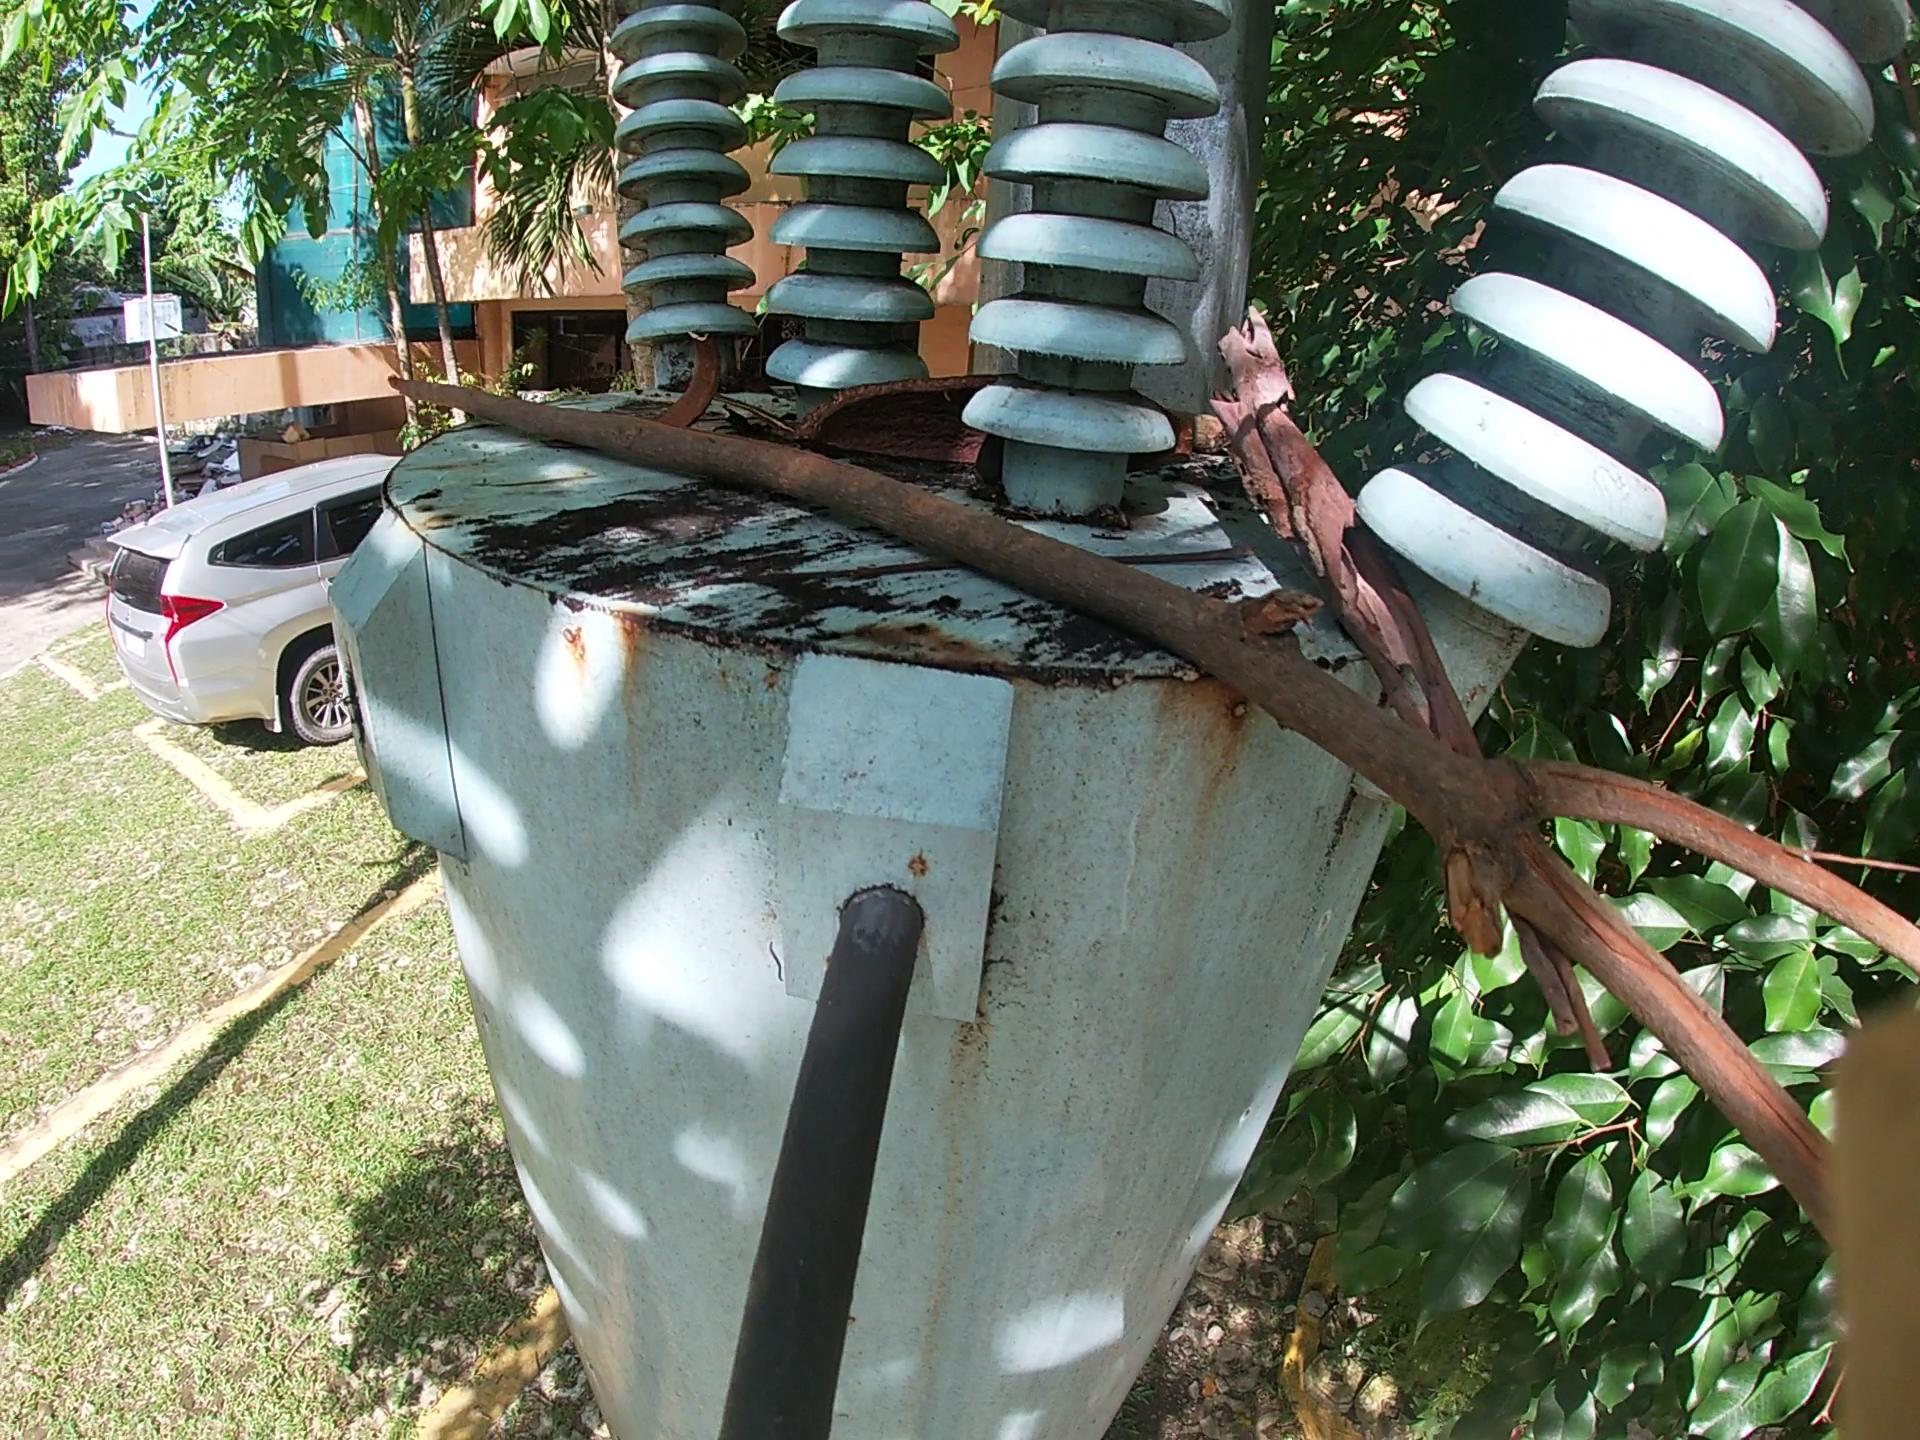mahogany fruit: (782, 375, 1008, 473), (653, 331, 735, 422), (1132, 396, 1182, 486)
tree branch: (393, 363, 1917, 1262), (1234, 299, 1627, 1130), (724, 534, 1250, 604), (711, 392, 800, 446), (1184, 401, 1234, 463)
